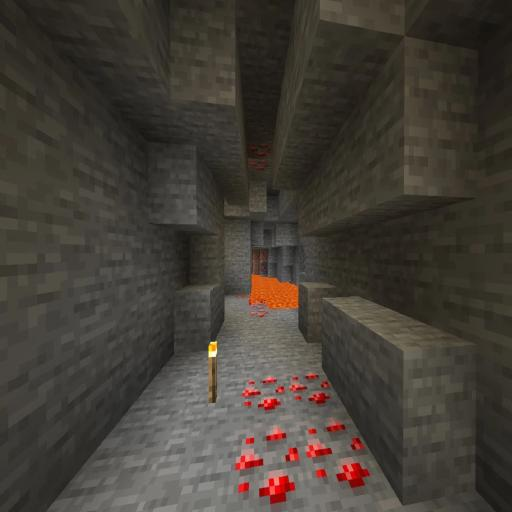redstone ore: (229, 374, 383, 512), (248, 133, 272, 180), (248, 296, 270, 322)
